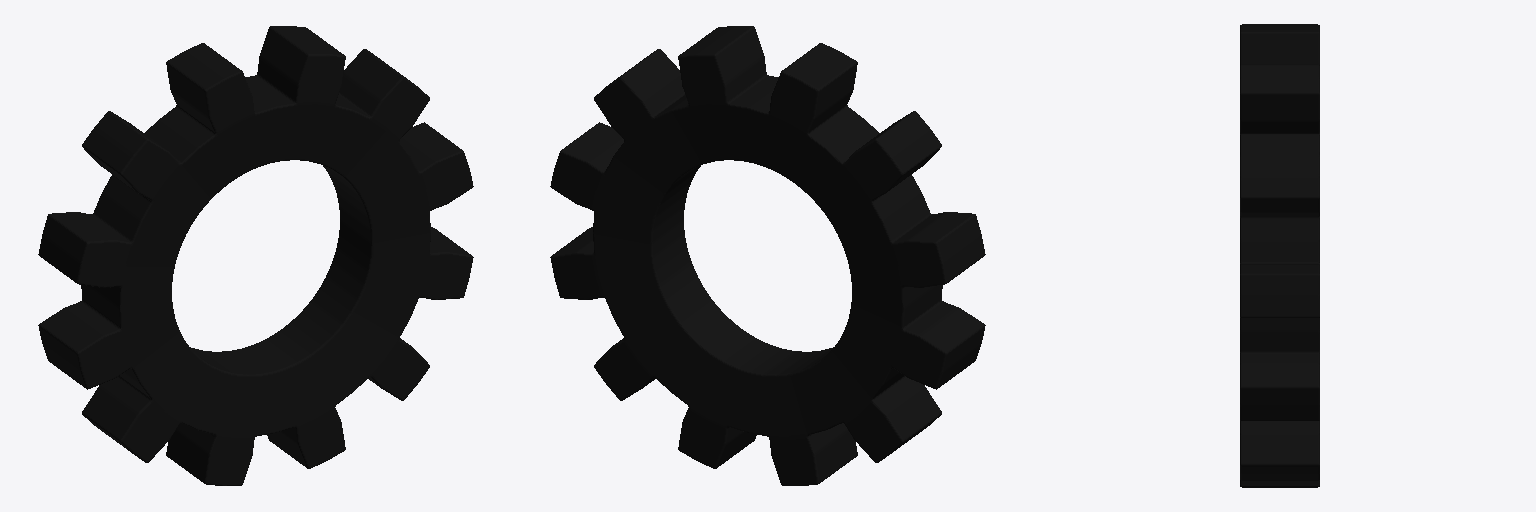
The model's file is gear.obj.
The picture shows the model from 3 angles: view 1: azimuth 30°, elevation 25°; view 2: azimuth 150°, elevation 25°; view 3: azimuth 270°, elevation 25°; orthographic projection.
Visible parts, largest first — view 1: Gear; view 2: Gear; view 3: Gear.
Boxes of the visible parts, x1,y1,x2,y2 form: Gear: [38, 26, 473, 485]; Gear: [550, 26, 985, 485]; Gear: [1240, 24, 1319, 487].
Size of the model in its own units: 2.29 by 2.29 by 0.4.